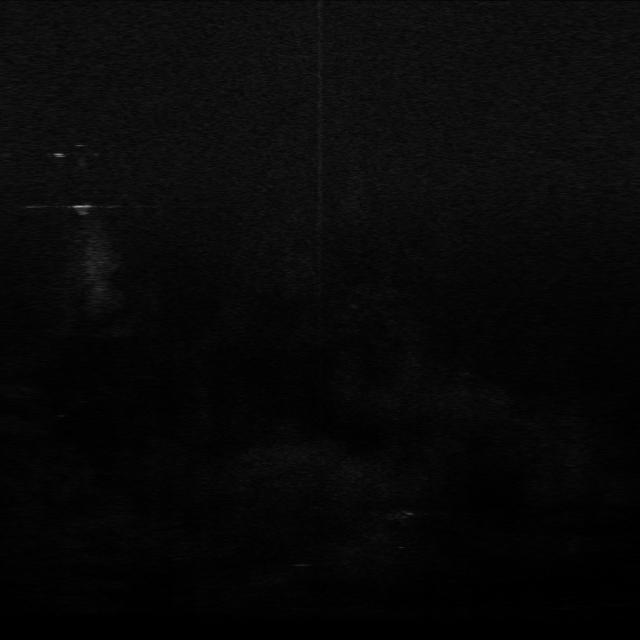rov: (71, 201, 93, 218)
